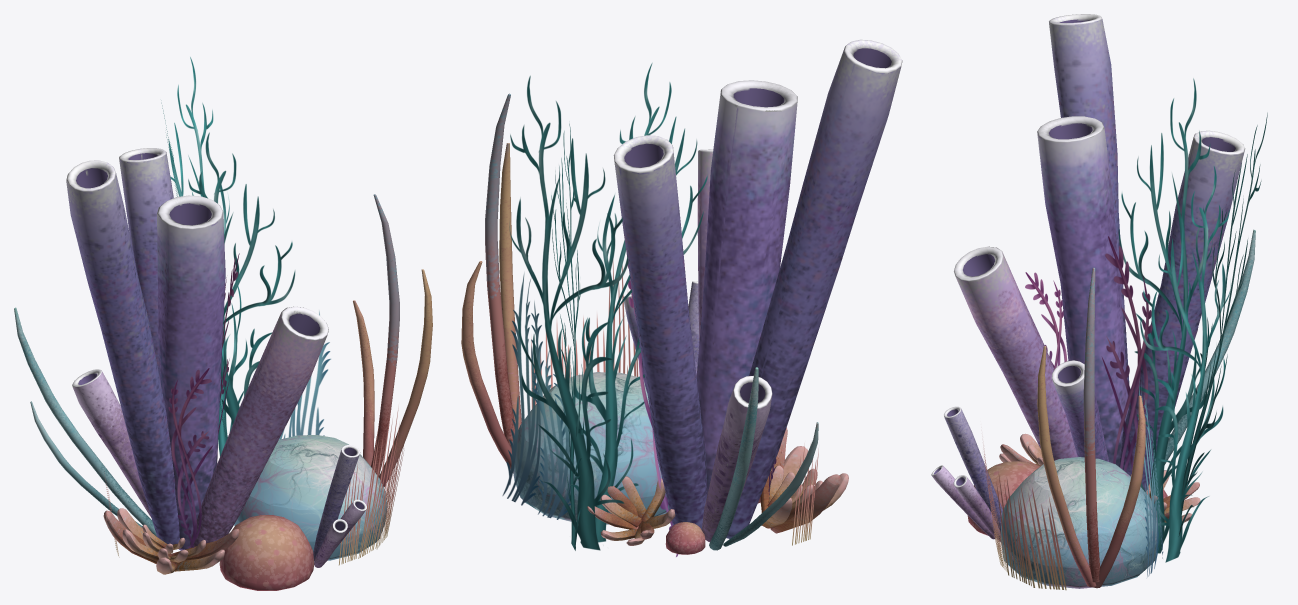
Rendered from coral_piece.glb.
3 renders of one model, left to right at view 1: azimuth 30°, elevation 25°; view 2: azimuth 150°, elevation 25°; view 3: azimuth 270°, elevation 25°, orthographic. The views are drawn at different scales.
Visible parts, largest first — view 1: polySurface267_lambert3_0; view 2: polySurface267_lambert3_0; view 3: polySurface267_lambert3_0.
Part boxes in pixels (box(x1,y1,x2,y2)): polySurface267_lambert3_0: box(14, 57, 432, 590); polySurface267_lambert3_0: box(461, 39, 902, 556); polySurface267_lambert3_0: box(931, 14, 1267, 590).
Bounding box in the file's own units: 3.09 × 4.06 × 2.64.
2 materials, 2 textured.
